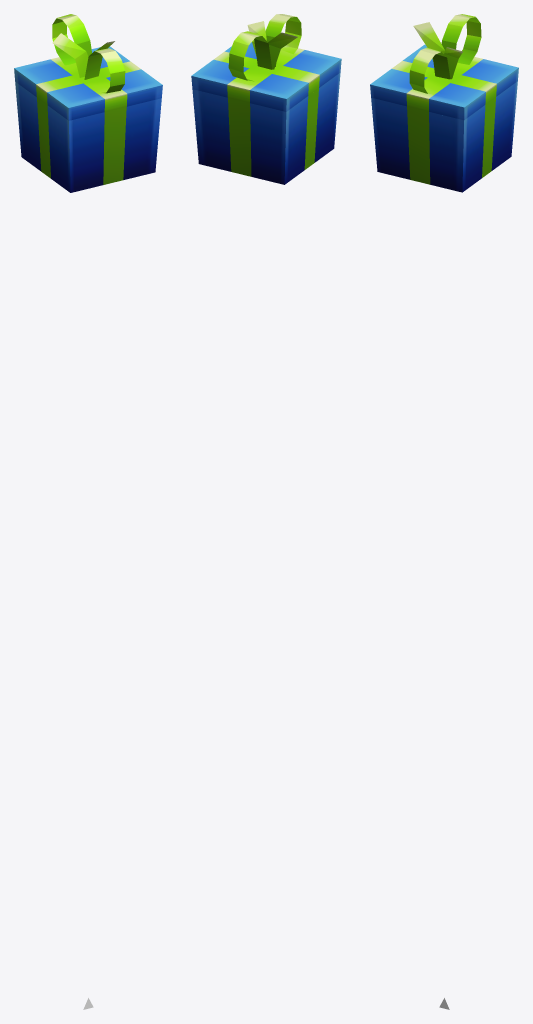
File: XmasPresent_green.glb
3 renders of one model, left to right at view 1: azimuth 30°, elevation 25°; view 2: azimuth 150°, elevation 25°; view 3: azimuth 330°, elevation 25°, orthographic.
Parts seen in each view (by area): view 1: box, lid; view 2: box, lid; view 3: box, lid.
Boxes of the visible parts, x1,y1,x2,y2 form: box: [15, 82, 161, 1009]; lid: [14, 14, 162, 120]; box: [192, 72, 340, 184]; lid: [191, 14, 341, 111]; box: [371, 81, 517, 1009]; lid: [370, 14, 518, 120].
Bounding box in the file's own units: 0.0895 × 0.8863 × 0.0954.
2 materials, 1 textured.
